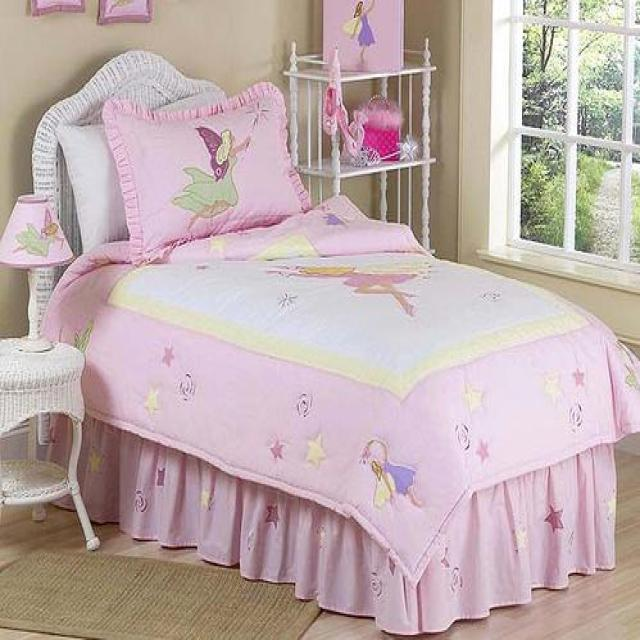bed: (29, 36, 638, 635)
table: (0, 335, 100, 551)
